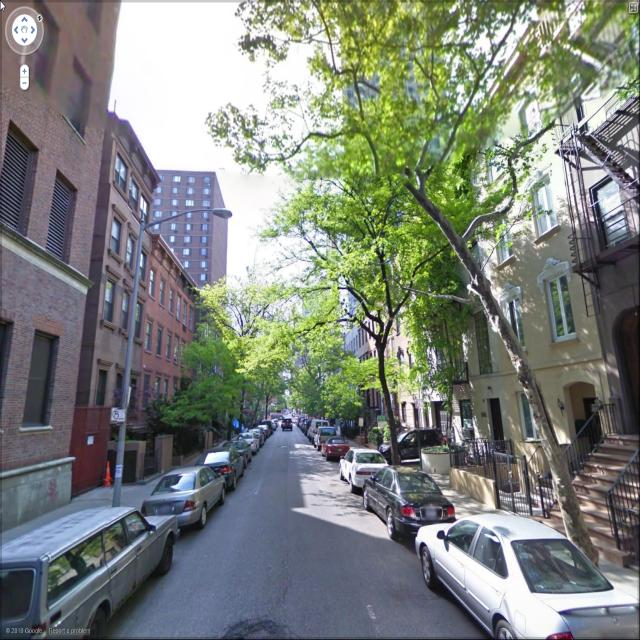b_1: (80, 108, 143, 453), (150, 157, 235, 311), (142, 241, 192, 428)
b_2: (467, 51, 600, 488), (539, 2, 640, 438), (341, 1, 464, 291), (444, 124, 520, 462), (392, 159, 457, 475), (301, 265, 366, 461), (195, 301, 271, 442), (344, 299, 411, 437)
